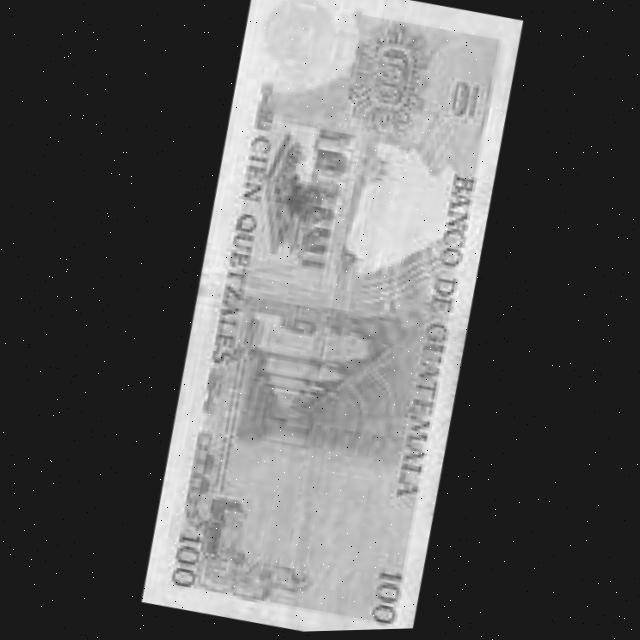banknote: (123, 0, 538, 637)
